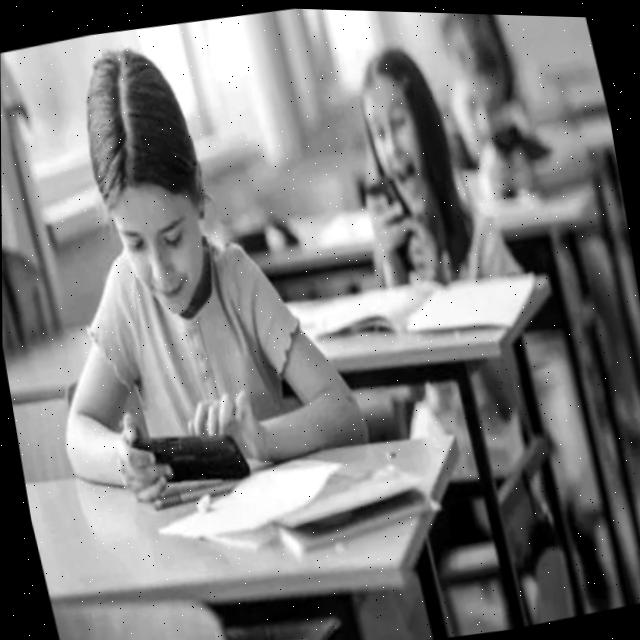phone: (128, 410, 254, 499), (359, 165, 423, 261), (491, 118, 525, 154)
